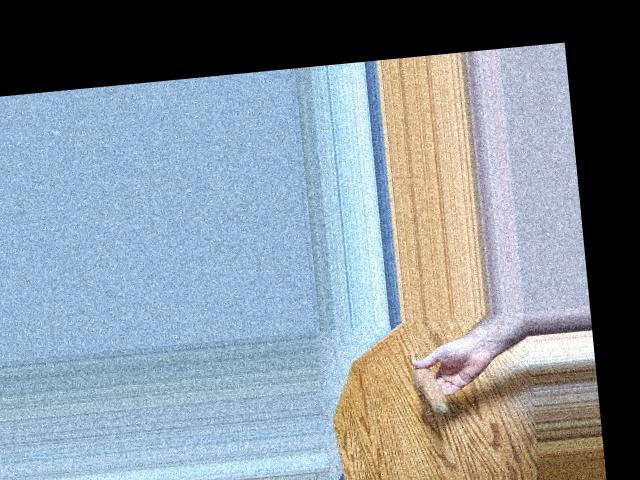sweet_potato: (411, 361, 451, 416)
